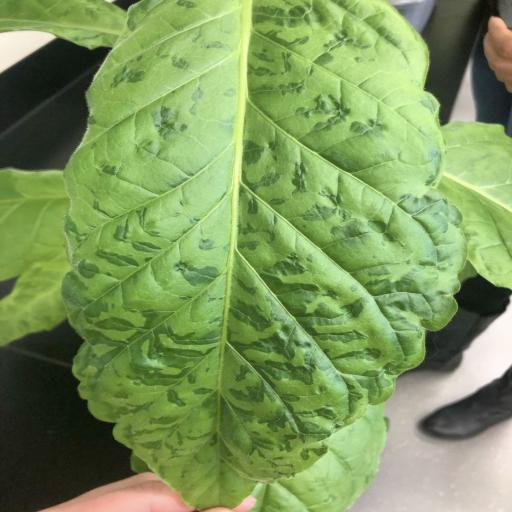disease_tomato: (59, 0, 465, 512)
